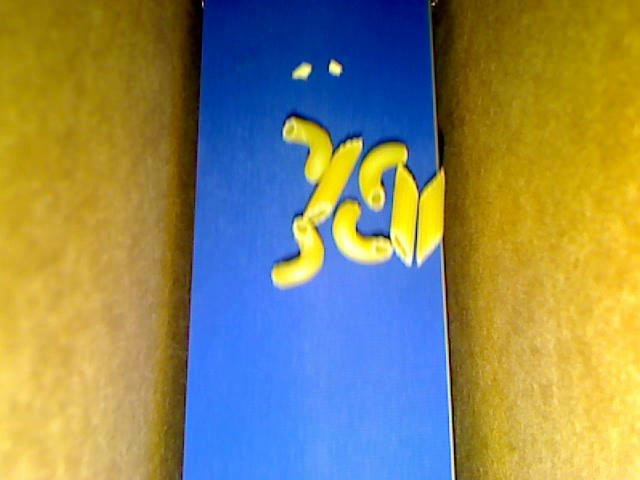elbow: (332, 198, 393, 265), (270, 217, 325, 289), (358, 140, 408, 211), (281, 116, 332, 180)
penne: (302, 136, 364, 226), (390, 161, 421, 265), (416, 166, 445, 268)
